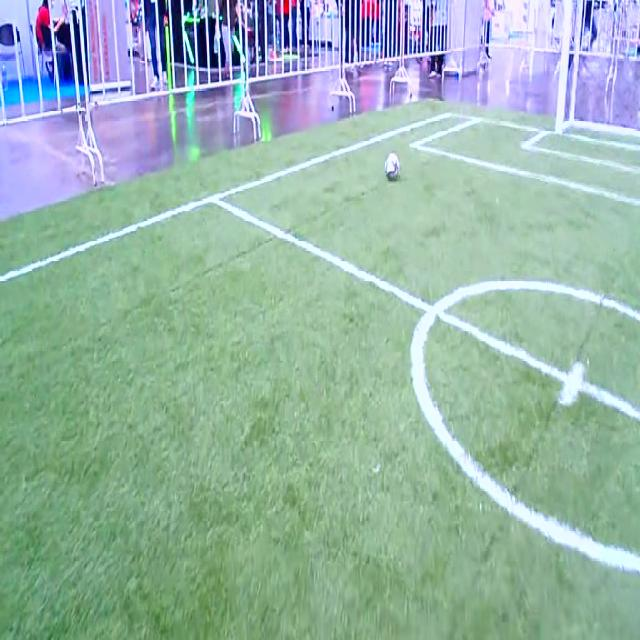ball: (385, 153, 400, 180)
